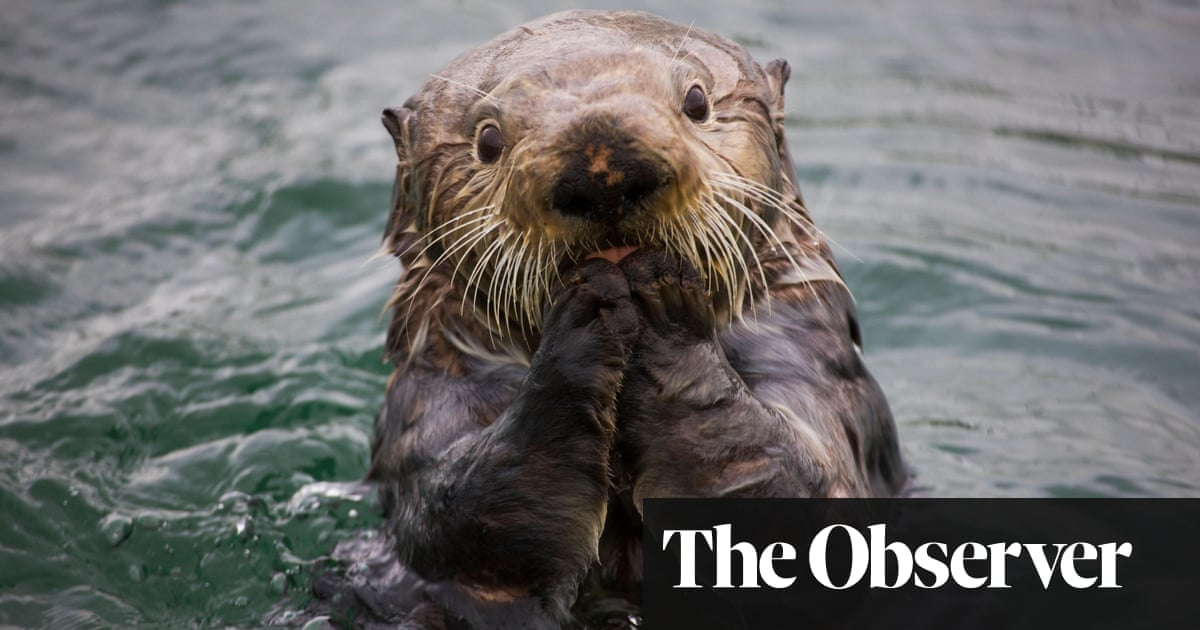otter: (341, 16, 950, 458)
